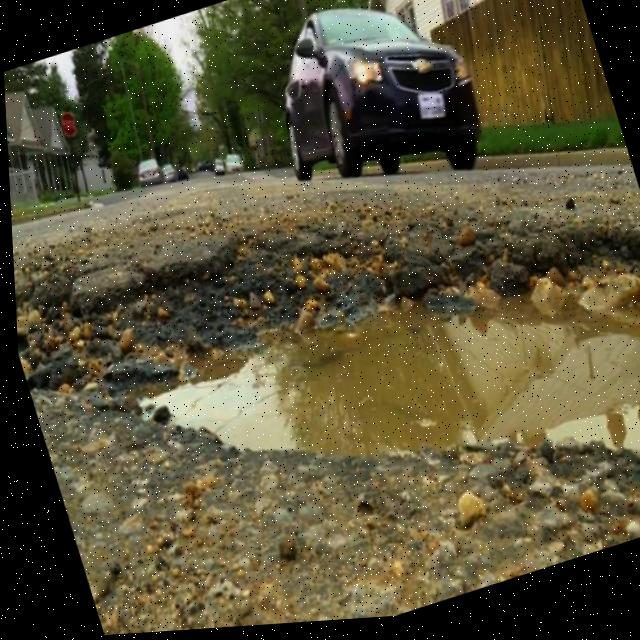Pothole: (83, 117, 640, 624)
